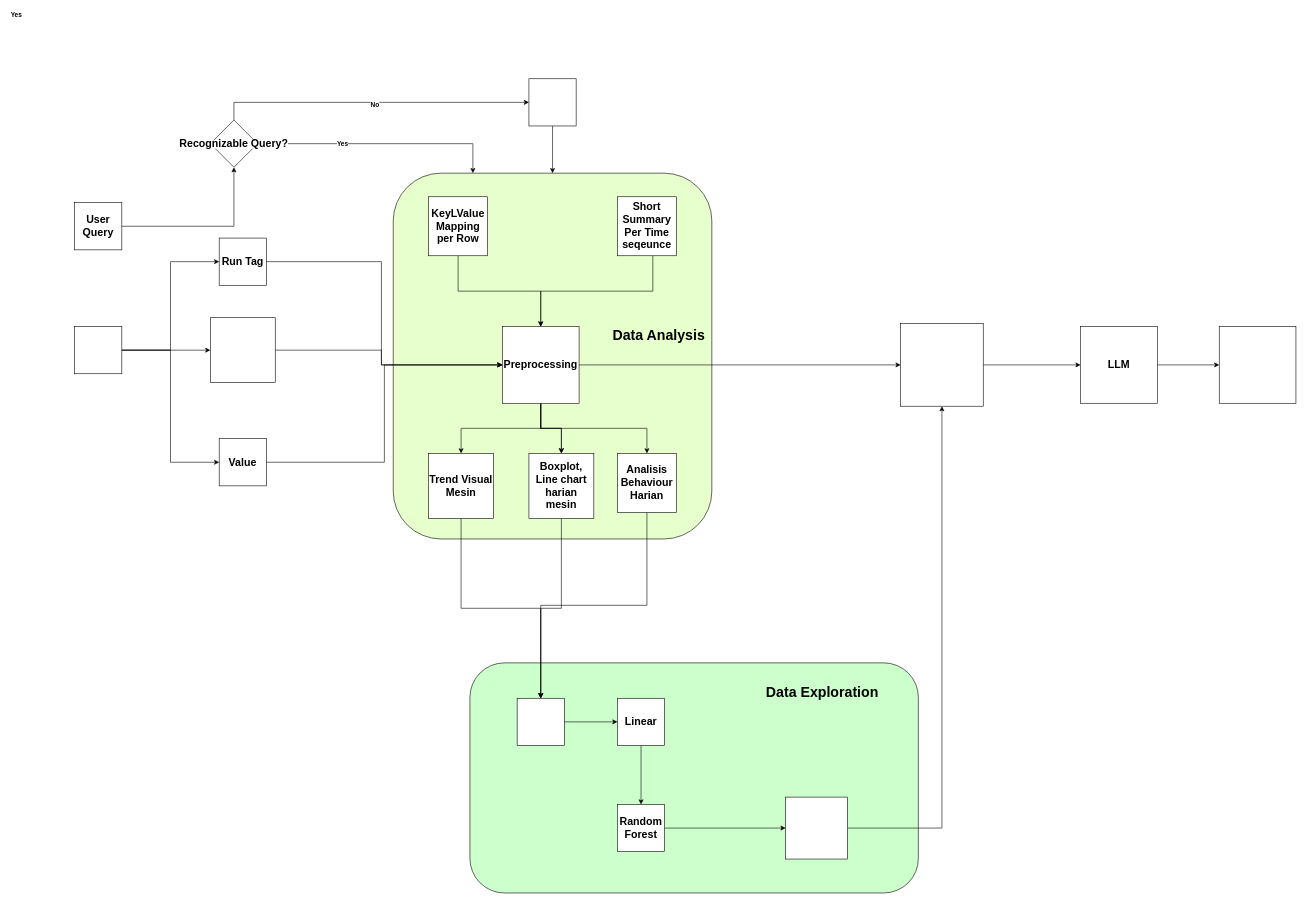
This 1306x903 diagram has some shape labels left out. Here are the shapes that lost their labels. From the top down, the centre of each, then its label:
the point at 552,102: Give Template Answers
the point at 98,350: Excel Mesin
the point at 242,350: Timestamp
the point at 941,364: Vercel AI SDK
the point at 1257,364: Output to User
the point at 540,721: Predict With ML Model
the point at 816,827: Predict the next 3, 6, 12, 24, 48 minutes
